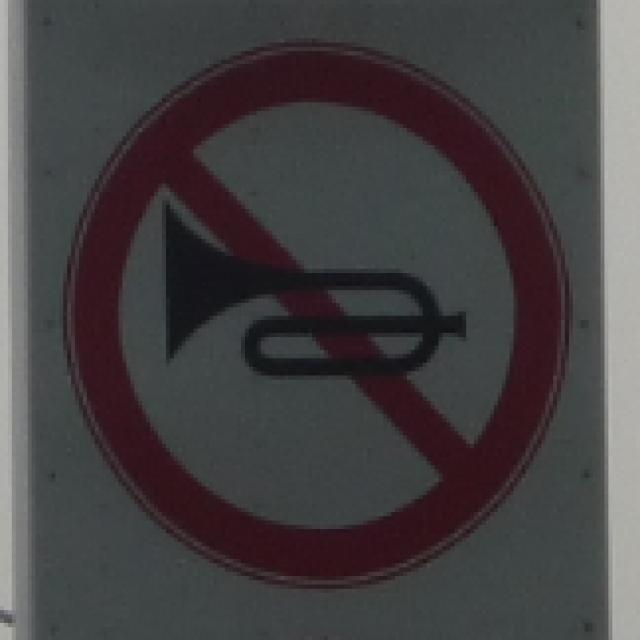No Horn: (56, 39, 578, 593)
